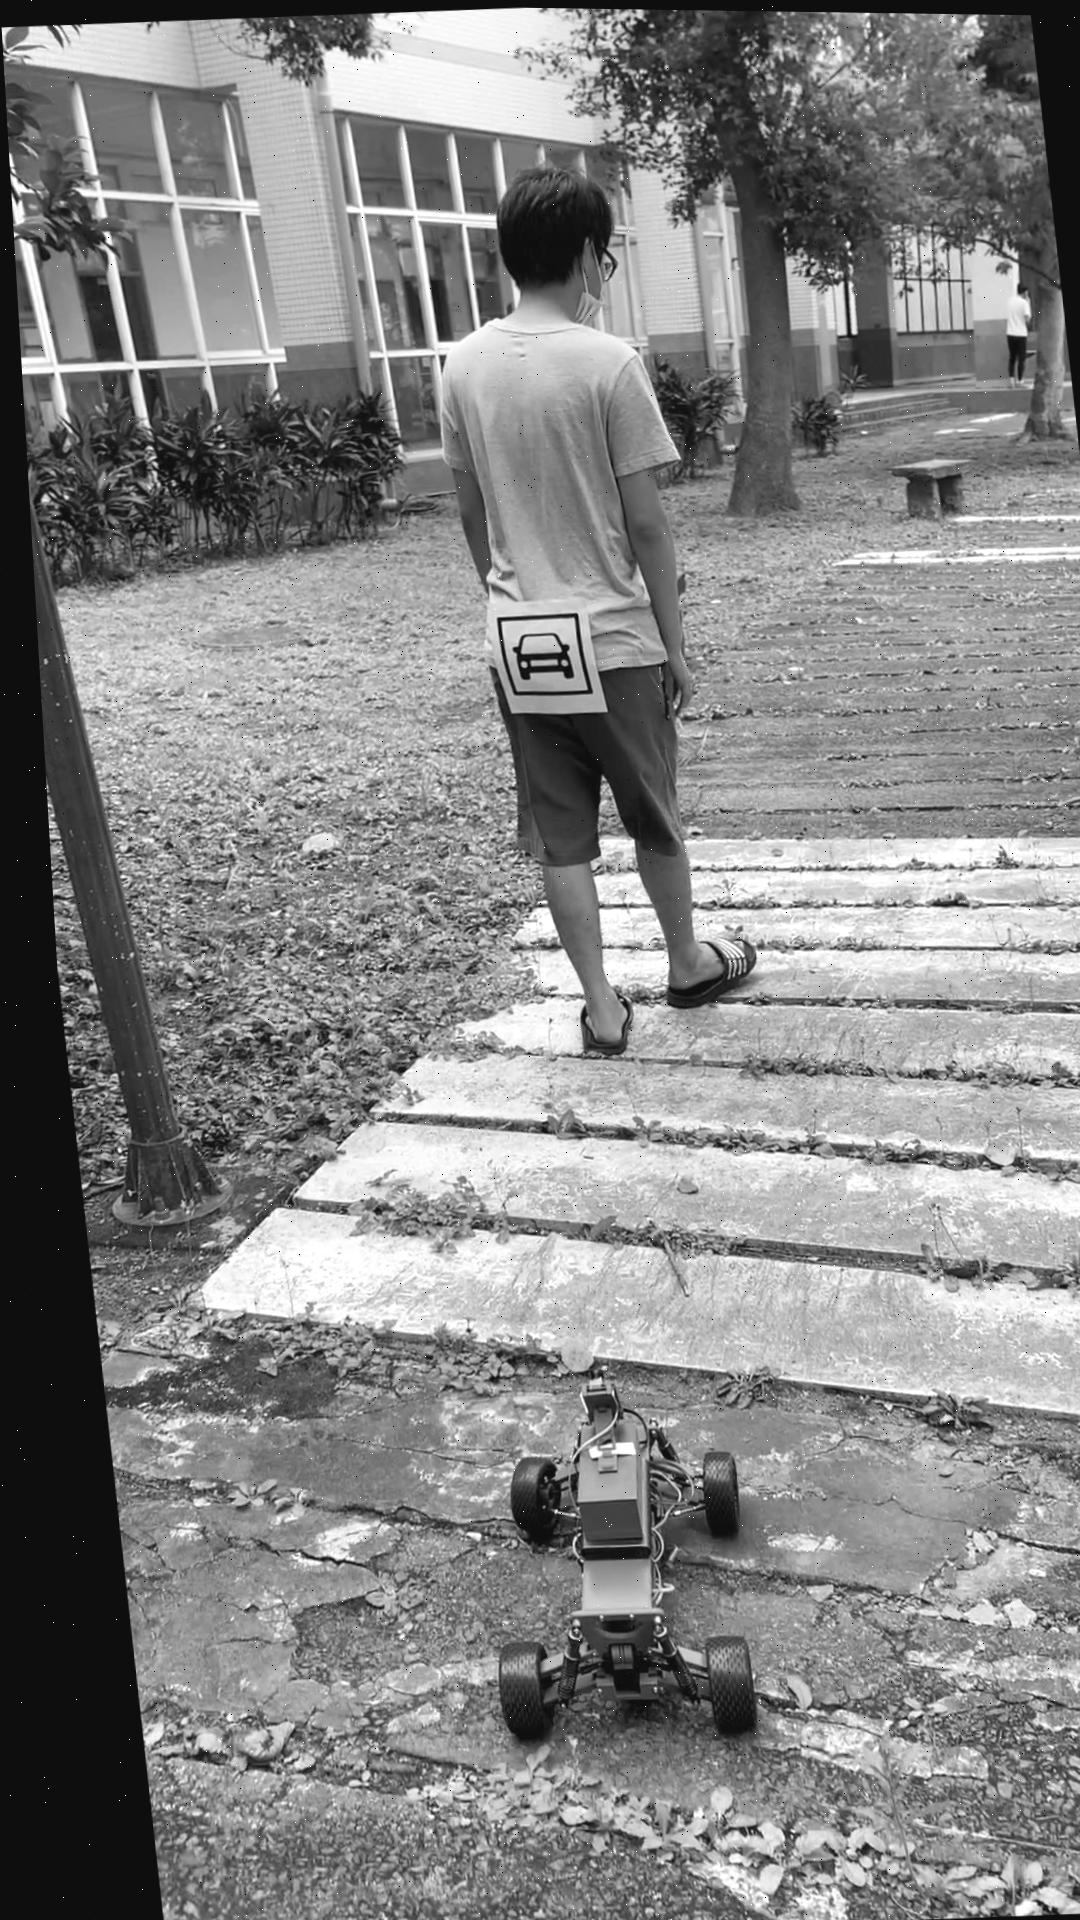car_img: (487, 609, 585, 698)
